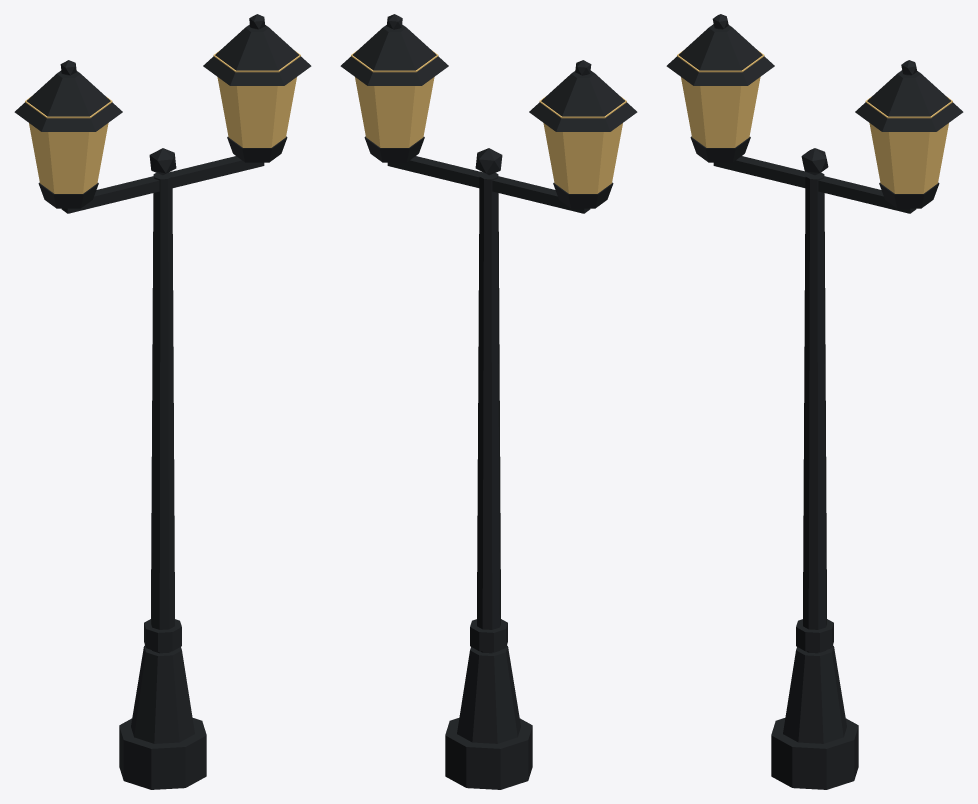
The model's file is lamp_double.fbx.
3 renders of one model, left to right at view 1: azimuth 30°, elevation 25°; view 2: azimuth 150°, elevation 25°; view 3: azimuth 330°, elevation 25°, orthographic.
Parts seen in each view (by area): view 1: lamp_double; view 2: lamp_double; view 3: lamp_double.
Part boxes in pixels (x1=…): lamp_double: x1=14, y1=14, x2=311, y2=789; lamp_double: x1=340, y1=14, x2=637, y2=789; lamp_double: x1=666, y1=14, x2=963, y2=789.
Bounding box in the file's own units: 2.06 × 5.36 × 0.72.
